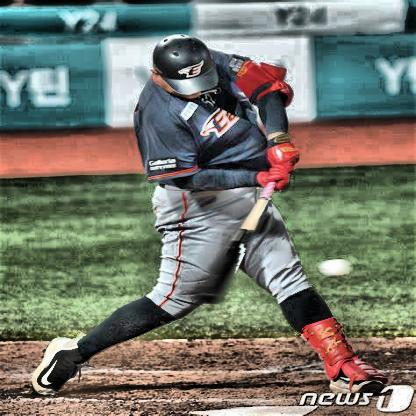baseball: (320, 256, 356, 284)
